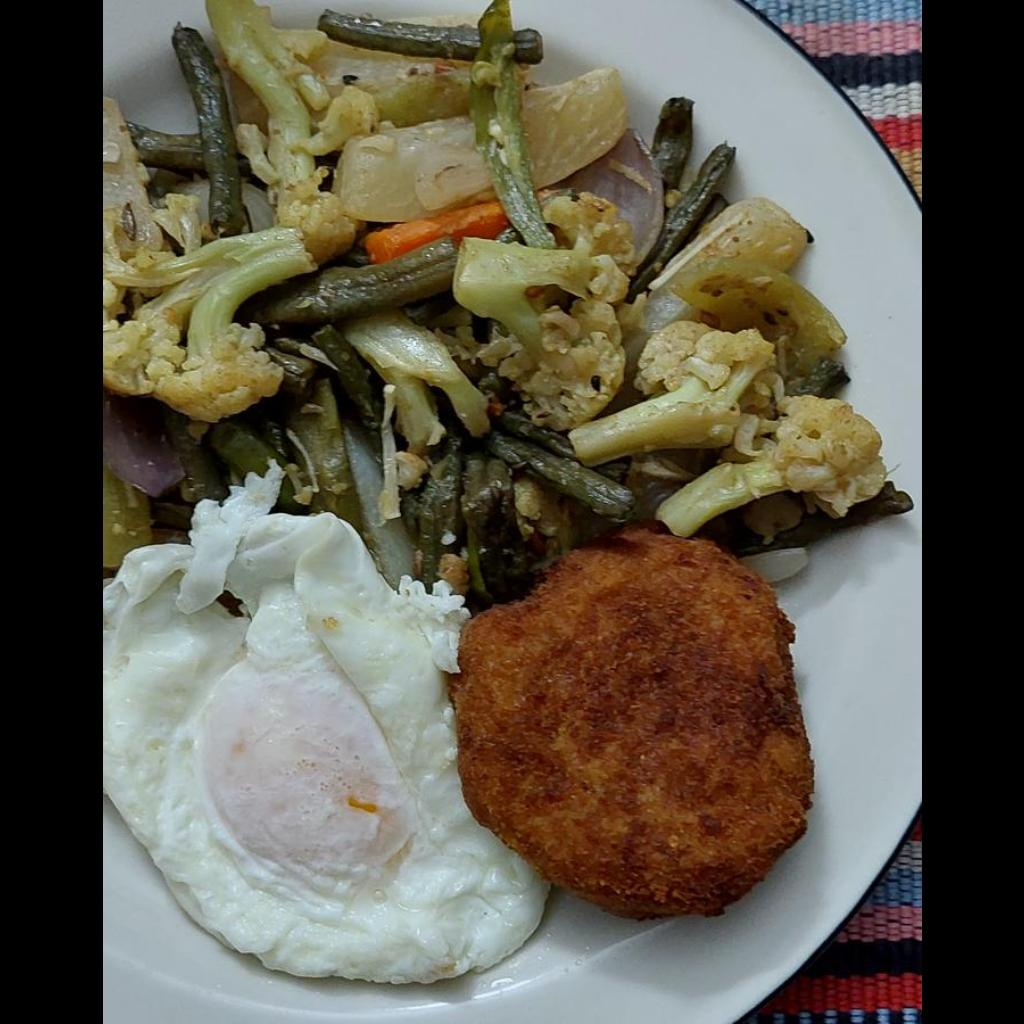egg-poached: (102, 476, 554, 990)
kabab: (458, 546, 823, 917)
vegetable: (103, 8, 920, 583)
